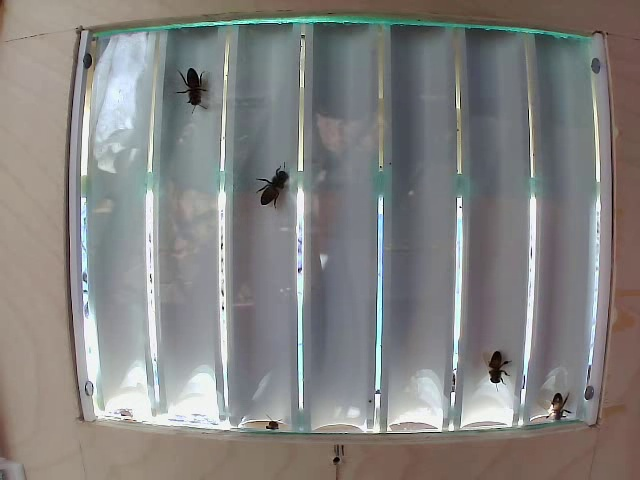bee: (249, 163, 294, 218), (480, 343, 525, 394), (166, 58, 208, 108)
